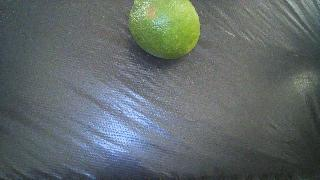DESECHO: (129, 0, 200, 59)
